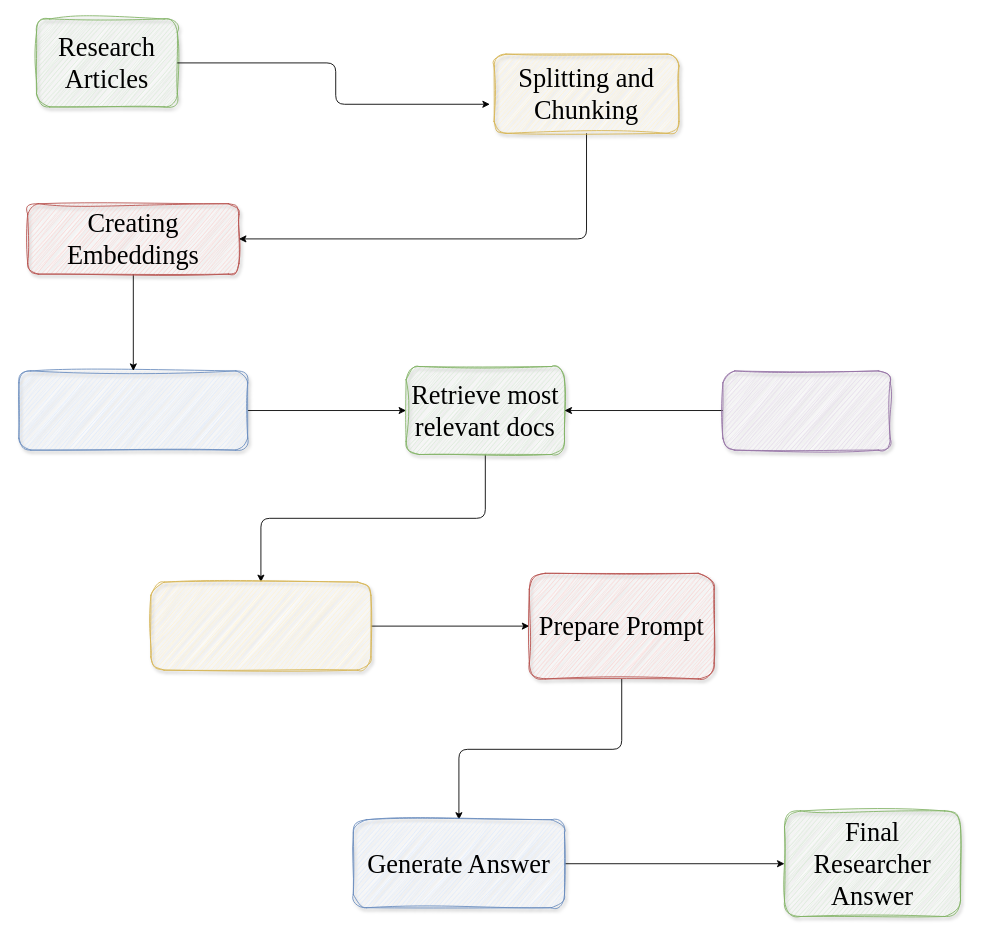
This 981x938 diagram has some shape labels left out. The centre of each missing label's shape, as x and y in pixels:
Create Vector Store: [134,411]
Rerank Retrieved docs: [261,627]
User Query: [807,411]
